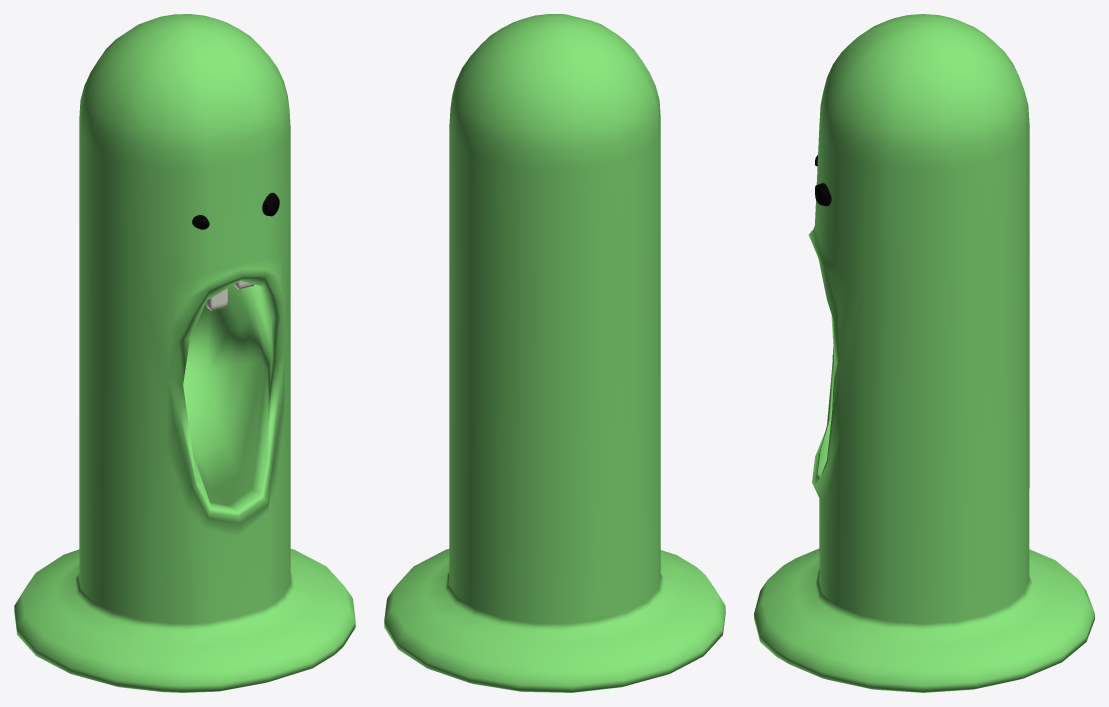
File: Larry2.fbx
3 renders of one model, left to right at view 1: azimuth 30°, elevation 25°; view 2: azimuth 150°, elevation 25°; view 3: azimuth 270°, elevation 25°, orthographic.
Visible parts, largest first — view 1: Neutral, Eyes; view 2: Neutral; view 3: Neutral.
Boxes of the visible parts, x1,y1,x2,y2 form: Neutral: (14, 14, 355, 692); Eyes: (192, 192, 279, 229); Neutral: (384, 14, 725, 692); Neutral: (754, 14, 1094, 692).
Size of the model in its own units: 3.23 by 6.24 by 3.21.
